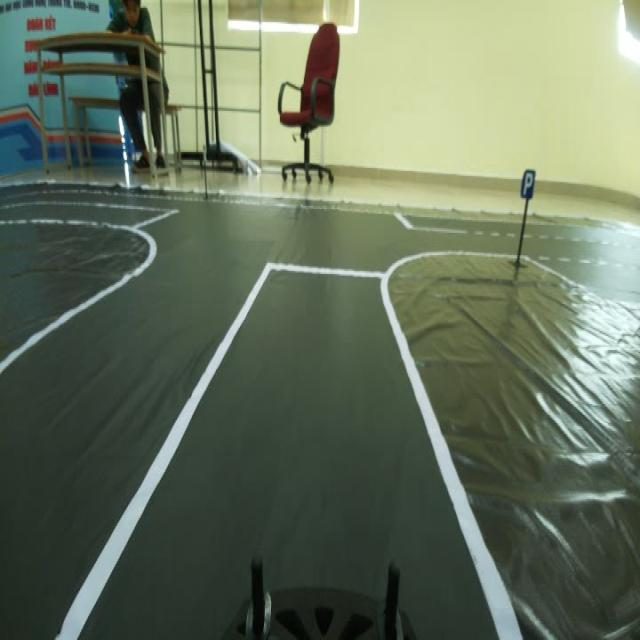parking: (518, 166, 537, 203)
